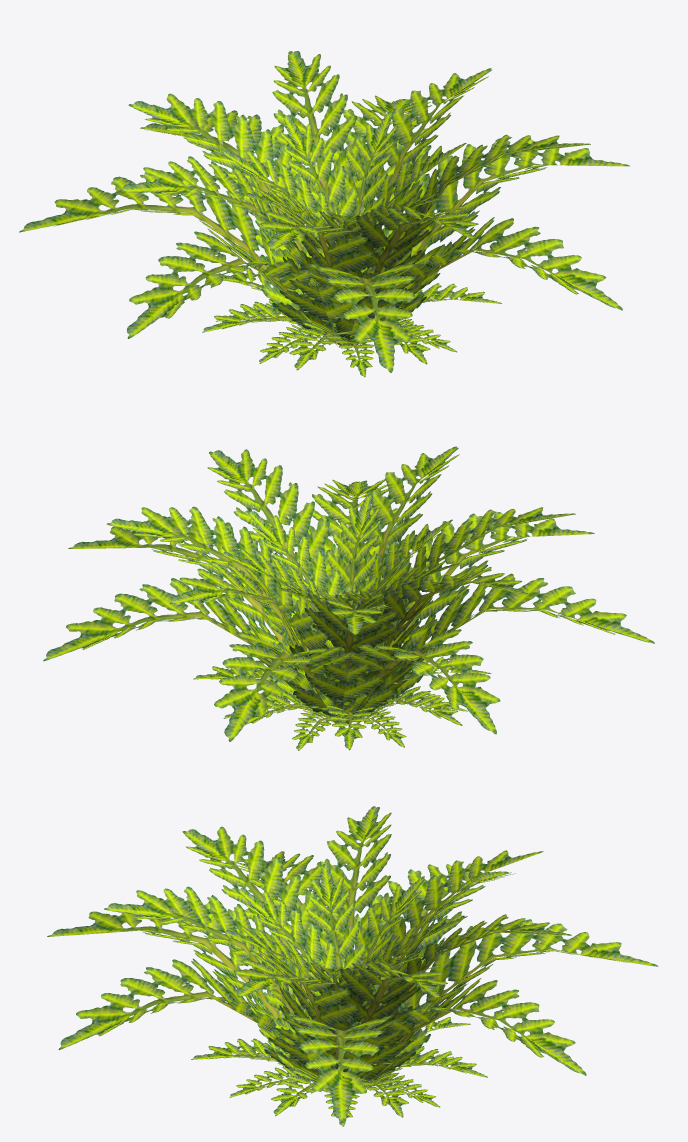
File: Plant03_Dream.glb
3 renders of one model, top to bottom at view 1: azimuth 30°, elevation 25°; view 2: azimuth 150°, elevation 25°; view 3: azimuth 270°, elevation 25°, orthographic. The views are drawn at different scales.
Visible parts, largest first — view 1: Plant03_dream; view 2: Plant03_dream; view 3: Plant03_dream.
Boxes of the visible parts, bbox=[...] form: Plant03_dream: bbox=[19, 51, 629, 377]; Plant03_dream: bbox=[43, 446, 654, 750]; Plant03_dream: bbox=[47, 806, 658, 1126].
Size of the model in its own units: 2.14 by 0.7944 by 2.15.
1 material, 1 textured.
